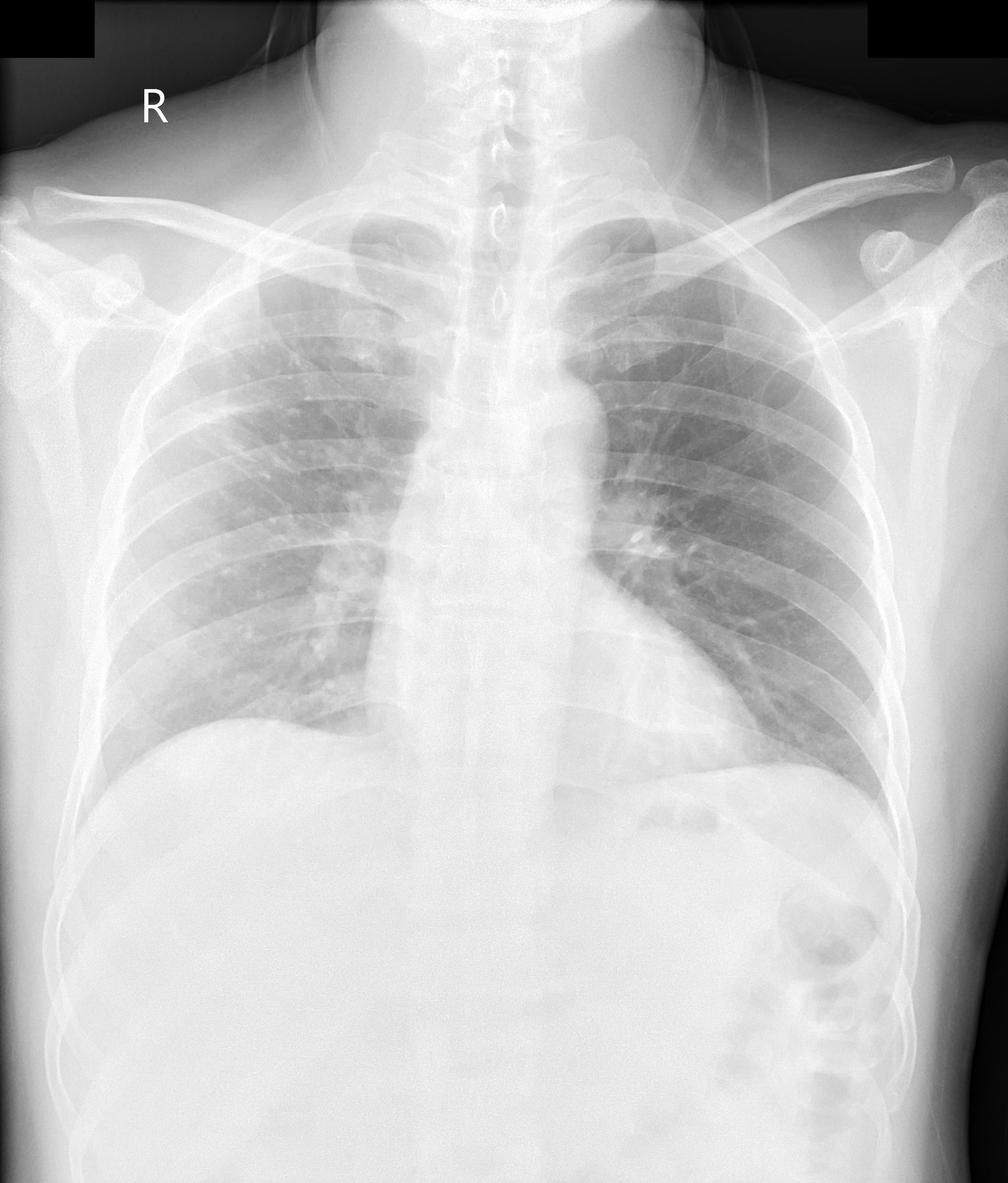Pulmonary fibrosis: (186, 305, 305, 483)
